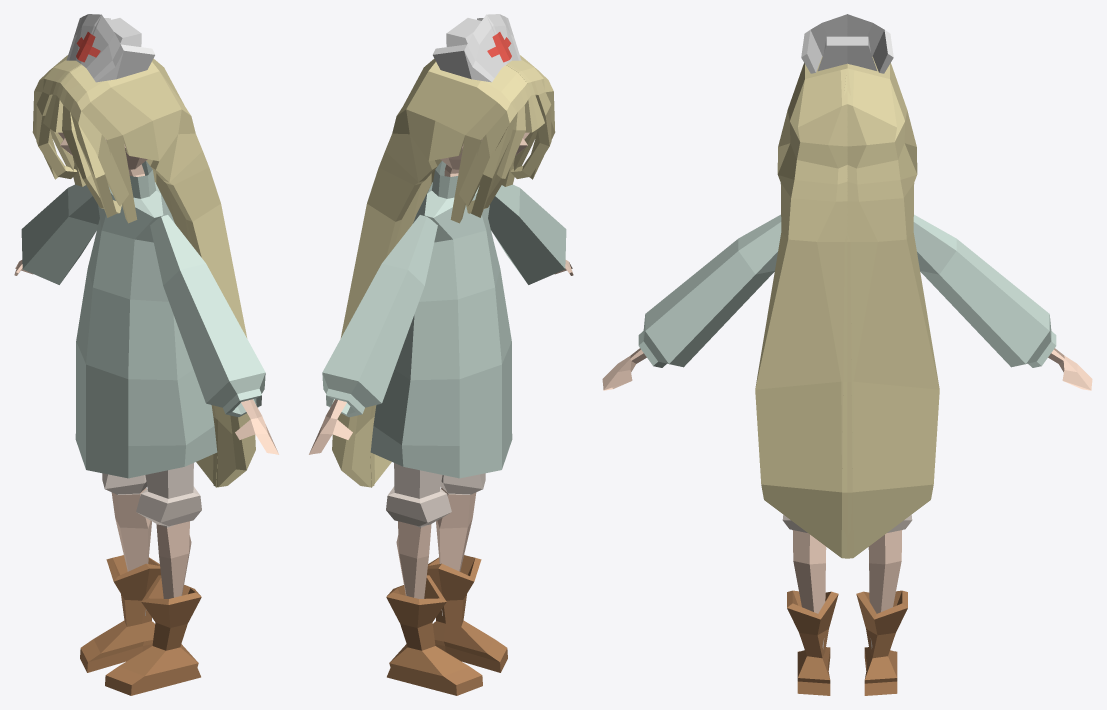
Rendered from healer1.fbx.
3 renders of one model, left to right at view 1: azimuth 30°, elevation 25°; view 2: azimuth 150°, elevation 25°; view 3: azimuth 270°, elevation 25°, orthographic. The views are drawn at different scales.
Visible parts, largest first — view 1: body, hair, arms, shoes, leg, pants, hat, hands, hat_cube, Plane; view 2: body, hair, arms, shoes, leg, pants, hat, hands, hat_cube, Plane; view 3: hair, arms, shoes, leg, hat, hands, hat_cube.
Part boxes in pixels (x1,y1,x2,y2): body: (75, 161, 217, 478); hair: (32, 55, 255, 487); arms: (21, 184, 265, 417); shoes: (80, 555, 201, 695); leg: (111, 487, 191, 598); pants: (102, 463, 201, 615); hat: (66, 14, 155, 82); hands: (14, 260, 278, 454); hat_cube: (106, 18, 141, 46); Plane: (76, 32, 100, 62); body: (370, 161, 512, 478); hair: (332, 55, 555, 487); arms: (322, 184, 566, 417); shoes: (386, 555, 507, 695); leg: (396, 487, 476, 598); pants: (386, 463, 485, 615); hat: (432, 14, 521, 82); hands: (309, 260, 573, 454); hat_cube: (446, 18, 481, 46); Plane: (487, 32, 511, 62); hair: (755, 56, 939, 558); arms: (638, 214, 1056, 367); shoes: (787, 590, 907, 695); leg: (792, 530, 902, 613); hat: (801, 14, 893, 73); hands: (602, 348, 1092, 390); hat_cube: (817, 36, 877, 71).
Bounding box in the file's own units: 128 × 461 × 317.
